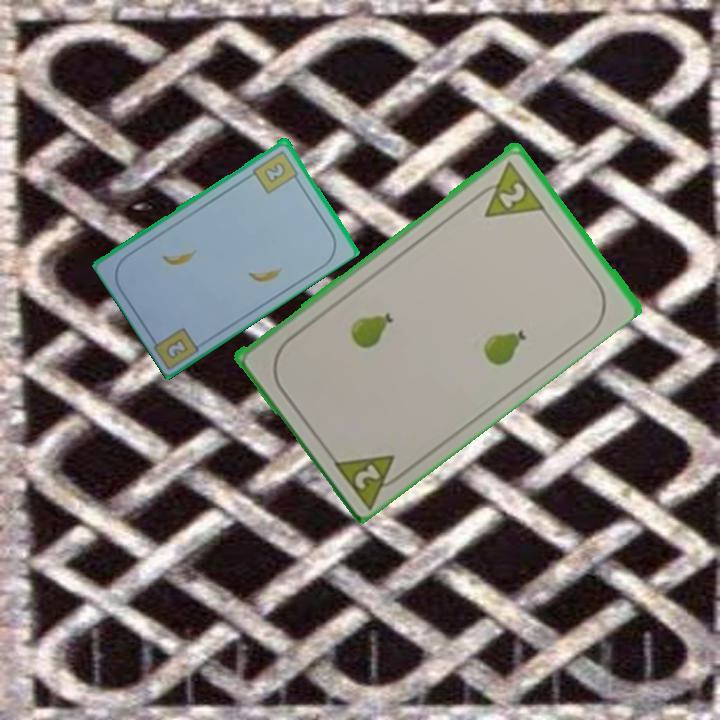2b: (249, 146, 303, 196), (162, 334, 191, 362)
2p: (468, 156, 547, 221), (327, 450, 411, 509)
